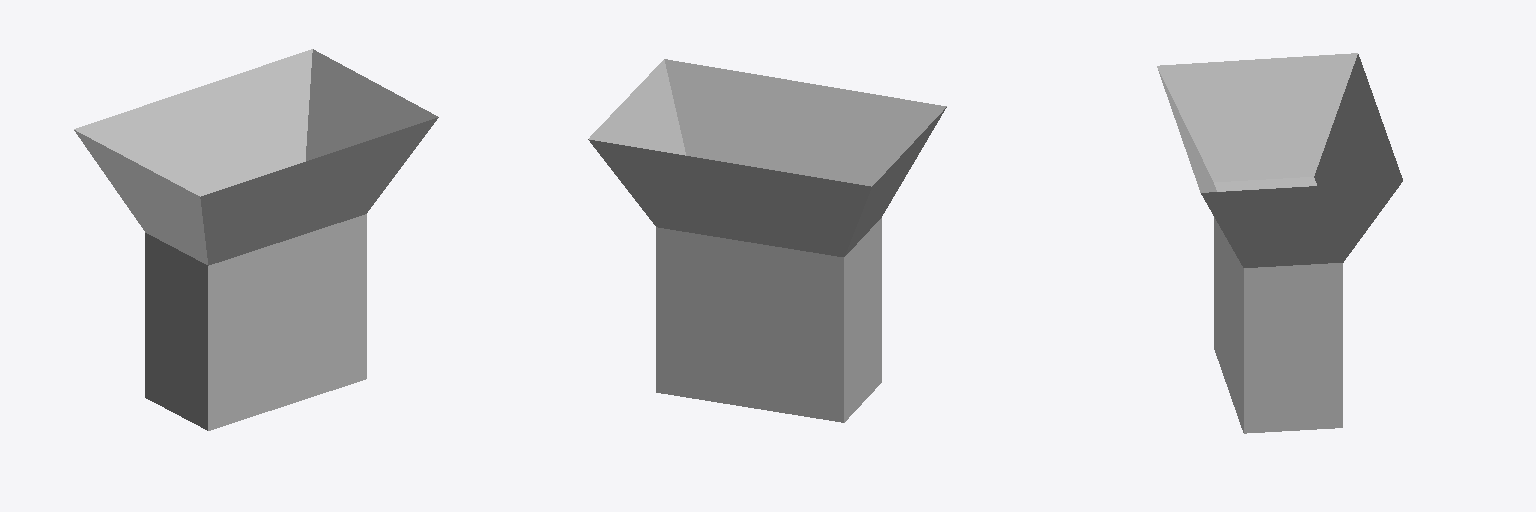
The model's file is viscliff.obj.
The picture shows the model from 3 angles: view 1: azimuth 30°, elevation 25°; view 2: azimuth 150°, elevation 25°; view 3: azimuth 270°, elevation 25°; orthographic projection.
Visible parts, largest first — view 1: virArena; view 2: virArena; view 3: virArena, Safe1.
Part boxes in pixels (left/top/right/bottom): virArena: left=74, top=49, right=438, bottom=430; virArena: left=588, top=59, right=946, bottom=422; virArena: left=1157, top=53, right=1402, bottom=433; Safe1: left=1214, top=177, right=1316, bottom=191.
Bounding box in the file's own units: 1.64 × 1.45 × 1.22.